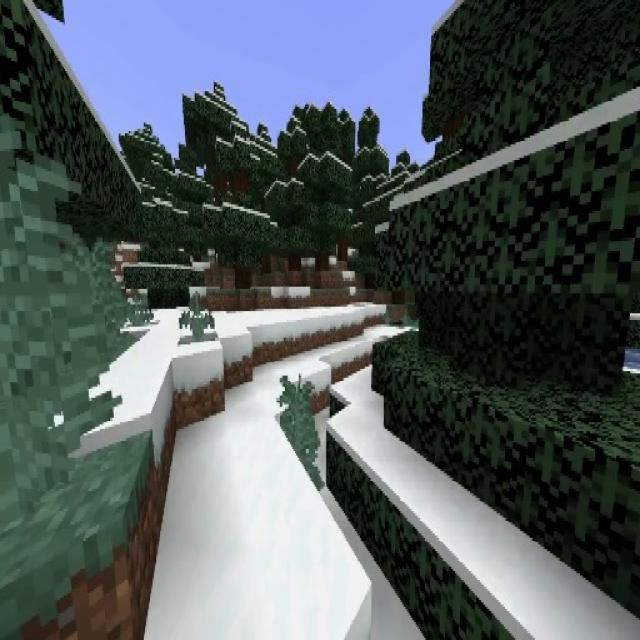spruce: (208, 138, 278, 288), (264, 116, 318, 274), (296, 108, 350, 266)
spruce_log: (236, 267, 251, 293), (316, 245, 330, 269), (289, 256, 302, 272), (338, 244, 349, 261)
